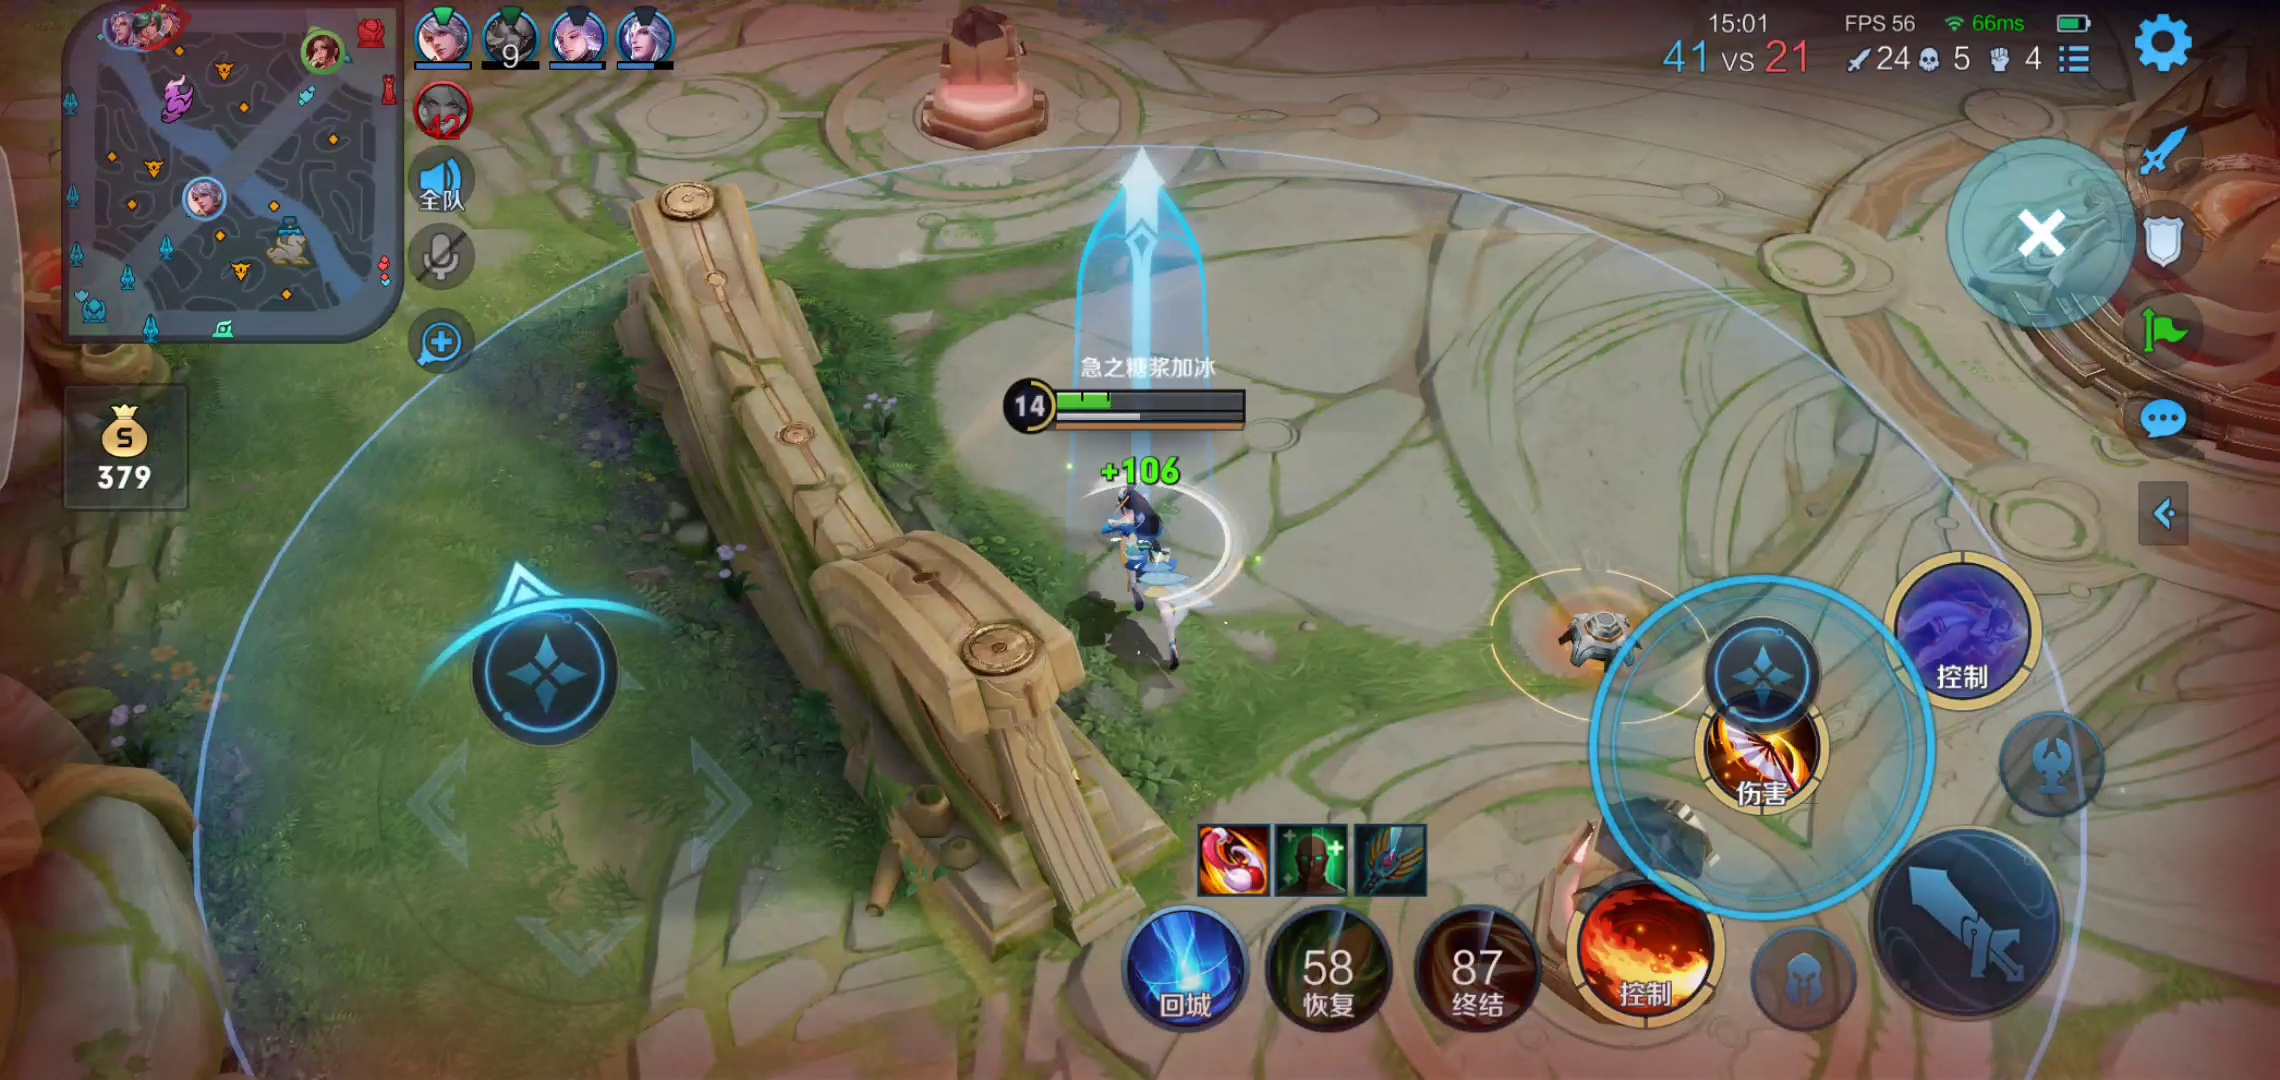crystal: (1996, 26, 2280, 464)
hero: (1057, 455, 1267, 672)
tower: (1517, 795, 1775, 1036), (903, 3, 1067, 148)
